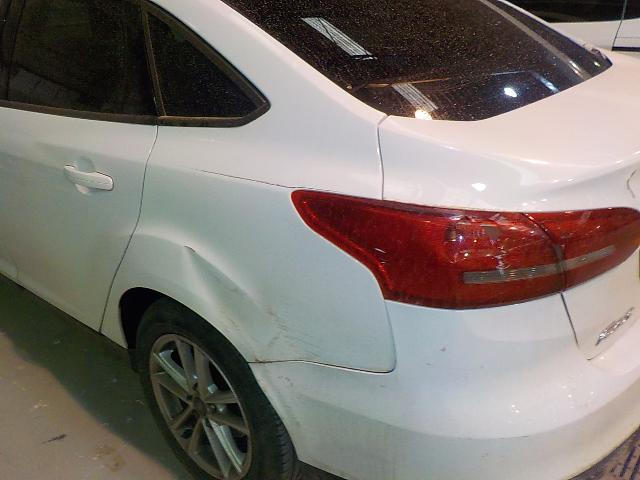dent: (182, 246, 279, 360)
lamp broken: (292, 190, 640, 309)
rub: (254, 299, 323, 362), (250, 364, 301, 429)
scratch: (181, 166, 355, 198), (223, 311, 260, 345), (207, 273, 239, 293), (426, 363, 485, 372), (278, 375, 294, 385), (220, 320, 230, 333), (183, 245, 195, 253), (377, 383, 388, 390), (440, 345, 448, 353)
